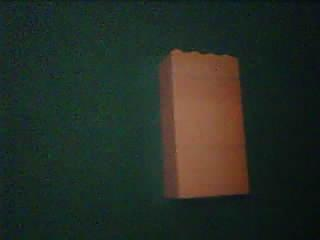lego: (156, 48, 247, 199)
